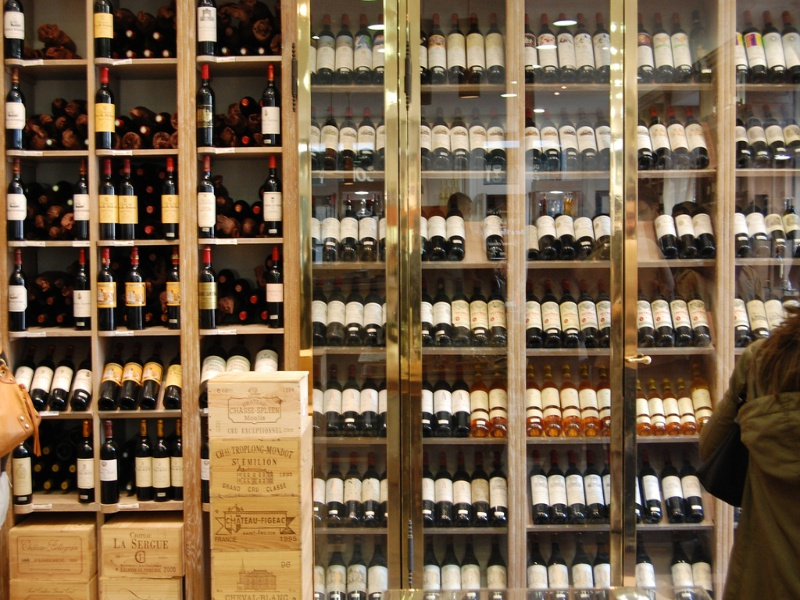wine: (1, 2, 800, 598)
